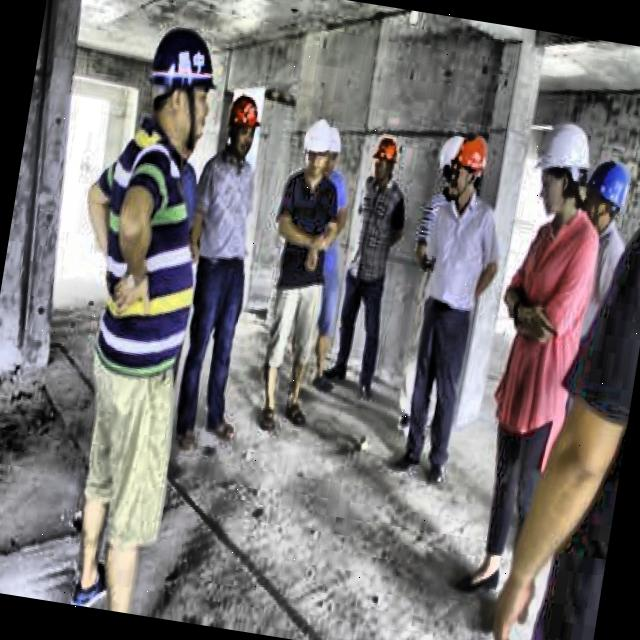helmet: (136, 26, 227, 168), (526, 109, 600, 223), (583, 149, 640, 233), (440, 129, 494, 207), (297, 115, 343, 180), (223, 88, 265, 158), (432, 128, 466, 202), (367, 132, 405, 192)
